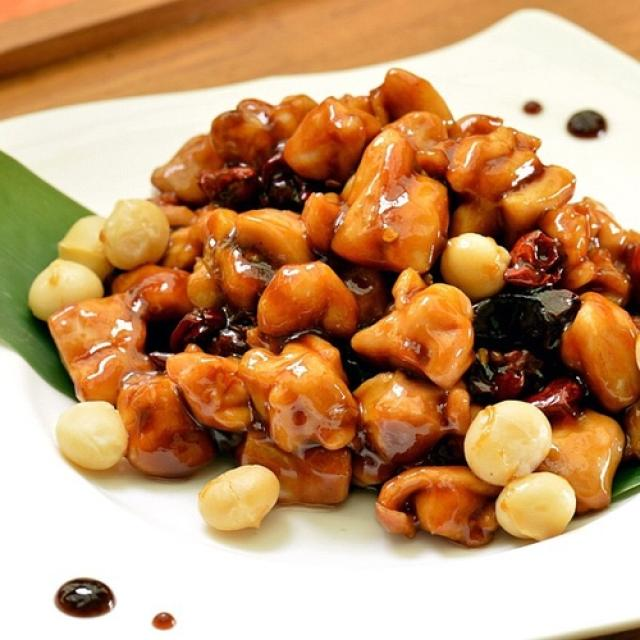鸡肉料理 含炸鸡: (4, 28, 630, 618)
